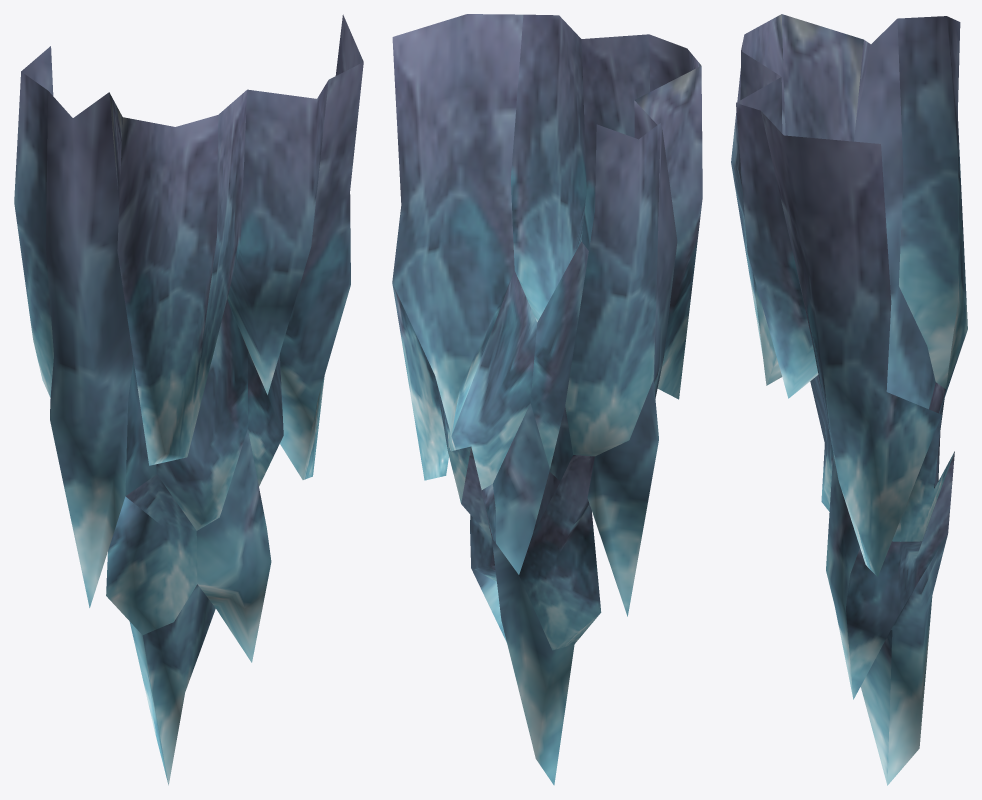
File: yw_anxizhidi_bingkuai01.FBX
3 renders of one model, left to right at view 1: azimuth 30°, elevation 25°; view 2: azimuth 150°, elevation 25°; view 3: azimuth 270°, elevation 25°, orthographic. The views are drawn at different scales.
Visible parts, largest first — view 1: yw_anxizhidi_bingkuai01; view 2: yw_anxizhidi_bingkuai01; view 3: yw_anxizhidi_bingkuai01.
Part boxes in pixels (x1=…): yw_anxizhidi_bingkuai01: x1=14, y1=14, x2=363, y2=785; yw_anxizhidi_bingkuai01: x1=392, y1=14, x2=702, y2=785; yw_anxizhidi_bingkuai01: x1=731, y1=14, x2=967, y2=785.
Bounding box in the file's own units: 379 × 915 × 271.
